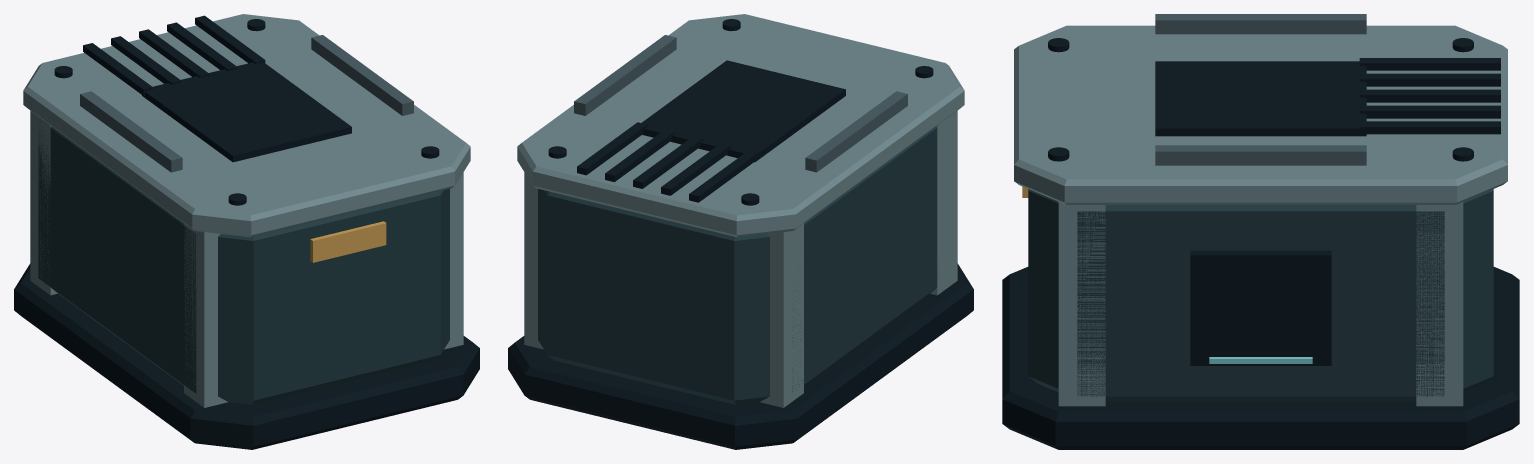
File: cassette_d0_lod0.glb
3 views of the same model, side by side, from view 1: azimuth 30°, elevation 25°; view 2: azimuth 150°, elevation 25°; view 3: azimuth 270°, elevation 25° (orthographic). The views are drawn at different scales.
Parts seen in each view (by area): view 1: CASSETTE_SHELL; view 2: CASSETTE_SHELL; view 3: CASSETTE_SHELL, CAPACITY_INDICATOR.
Part boxes in pixels (left/top/right/bottom): CASSETTE_SHELL: left=14, top=14, right=479, bottom=449; CASSETTE_SHELL: left=508, top=14, right=973, bottom=449; CASSETTE_SHELL: left=1002, top=14, right=1519, bottom=449; CAPACITY_INDICATOR: left=1209, top=357, right=1312, bottom=363.
Size of the model in its own units: 1.65 by 1.35 by 2.2.
